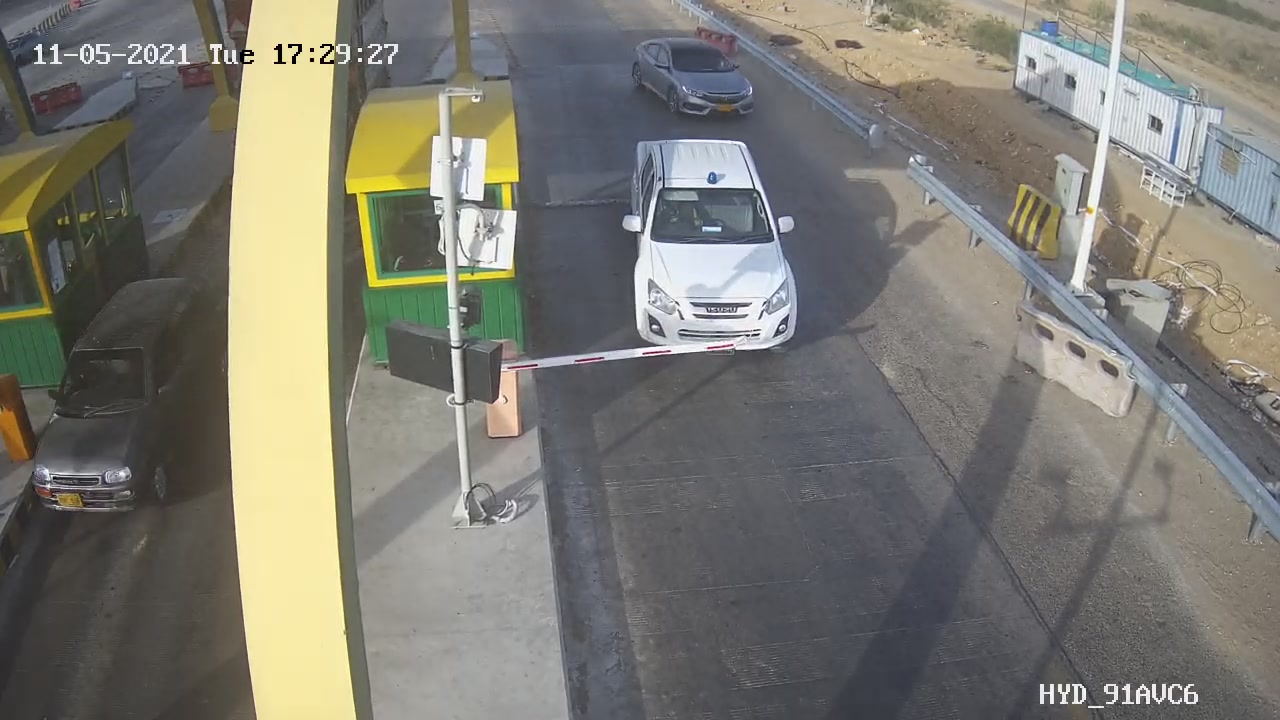F1: (604, 117, 820, 373), (616, 20, 772, 134)
